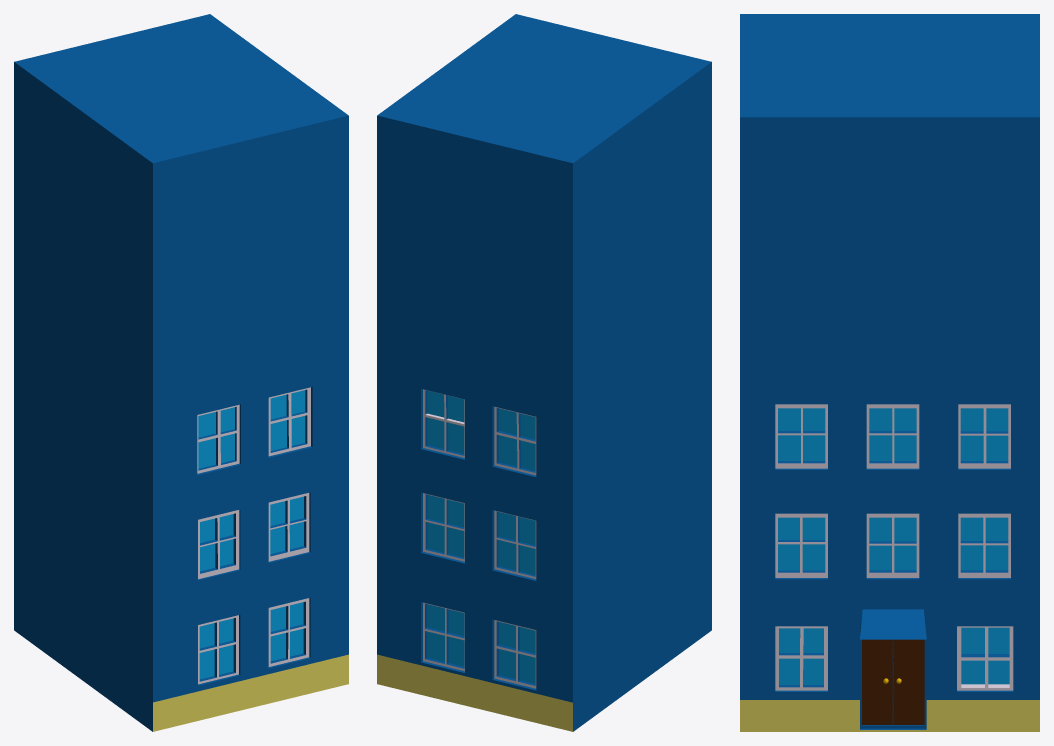
The model's file is High Rise 6 Blue.fbx.
The picture shows the model from 3 angles, left to right: view 1: azimuth 30°, elevation 25°; view 2: azimuth 150°, elevation 25°; view 3: azimuth 270°, elevation 25°; orthographic projection. The views are drawn at different scales.
Parts seen in each view (by area): view 1: Cube; view 2: Cube; view 3: Cube.
Boxes of the visible parts, x1,y1,x2,y2 form: Cube: [14, 14, 348, 731]; Cube: [377, 14, 711, 731]; Cube: [740, 14, 1039, 731].
Bounding box in the file's own units: 314 × 791 × 350.
